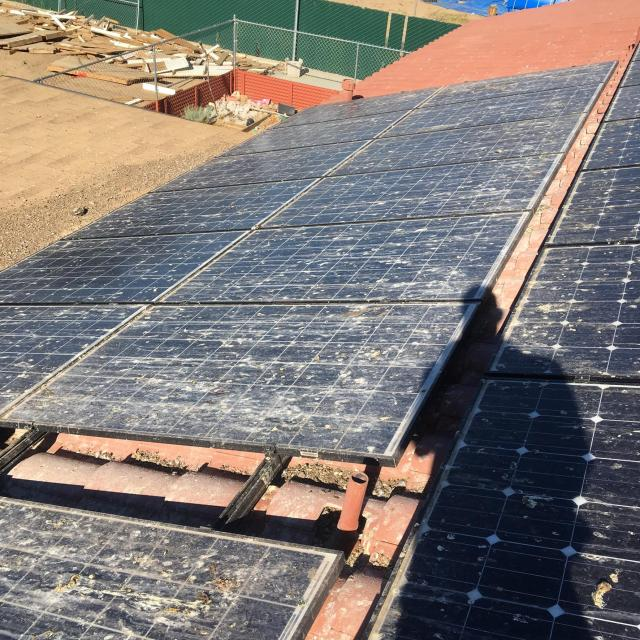dust-solar-panel: (0, 60, 618, 461), (363, 40, 640, 640), (0, 497, 342, 640)
